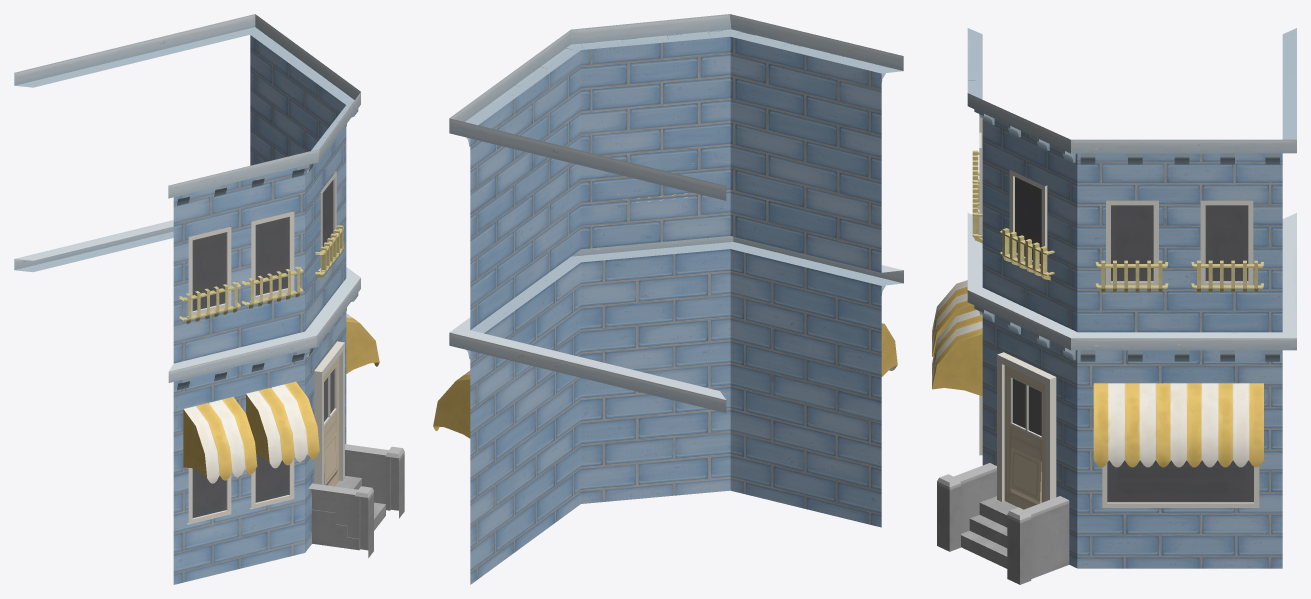
Rendered from Winkel2.fbx.
3 views of the same model, side by side, from view 1: azimuth 30°, elevation 25°; view 2: azimuth 150°, elevation 25°; view 3: azimuth 270°, elevation 25° (orthographic). The views are drawn at different scales.
Visible parts, largest first — view 1: gebouw, zonnewering_klein1, zonnewering_klein, deur, leuning1, raam_boven, raam_boven1, leuning, raam_beneden, raam_beneden1, zonnewering_groot, pCube52 (+4 smaller); view 2: gebouw, zonnewering_groot, zonnewering_klein1; view 3: gebouw, zonnewering_groot, deur, raam_groot, leuning, raam_boven3, raam_boven4, zonnewering_klein, leuning1, raam_boven2, trap, pCube35 (+4 smaller).
Boxes of the visible parts, bbox=[...] form: gebouw: bbox=[14, 14, 360, 584]; zonnewering_klein1: bbox=[183, 397, 257, 483]; zonnewering_klein: bbox=[246, 381, 319, 468]; deur: bbox=[314, 341, 344, 486]; leuning1: bbox=[308, 483, 373, 557]; raam_boven: bbox=[187, 226, 231, 316]; raam_boven1: bbox=[250, 210, 294, 301]; leuning: bbox=[345, 444, 404, 518]; raam_beneden: bbox=[187, 468, 231, 524]; raam_beneden1: bbox=[250, 454, 294, 509]; zonnewering_groot: bbox=[346, 313, 379, 373]; pCube52: bbox=[179, 282, 240, 324]; gebouw: bbox=[449, 14, 903, 584]; zonnewering_groot: bbox=[433, 370, 470, 438]; zonnewering_klein1: bbox=[881, 323, 897, 376]; gebouw: bbox=[967, 28, 1296, 568]; zonnewering_groot: bbox=[1093, 383, 1263, 467]; deur: bbox=[997, 352, 1056, 509]; raam_groot: bbox=[1102, 460, 1259, 507]; leuning: bbox=[1007, 496, 1069, 584]; raam_boven3: bbox=[1200, 200, 1253, 285]; raam_boven4: bbox=[1106, 200, 1158, 285]; zonnewering_klein: bbox=[932, 310, 982, 396]; leuning1: bbox=[937, 463, 996, 551]; raam_boven2: bbox=[1009, 170, 1047, 268]; trap: bbox=[961, 496, 1017, 568]; pCube35: bbox=[1000, 228, 1054, 280].
Bounding box in the file's own units: 5.95 × 8.57 × 6.51.
1 material, 1 textured.
